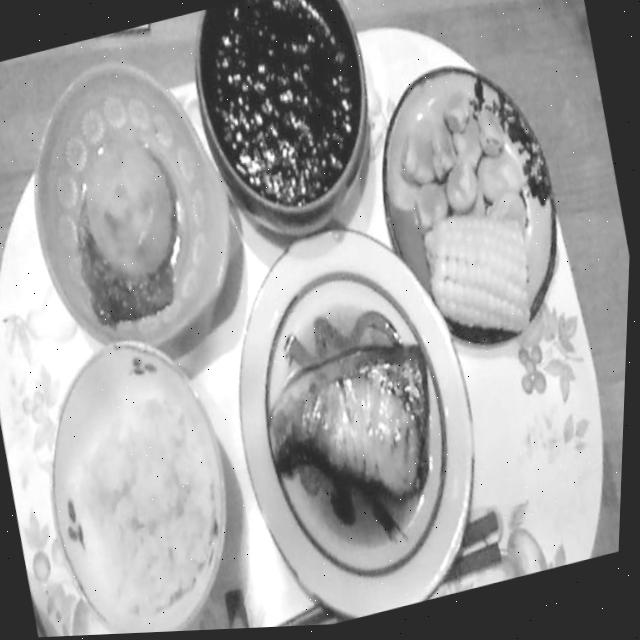熟制海鲜: (179, 184, 510, 633)
米饭主食: (13, 298, 256, 639)
